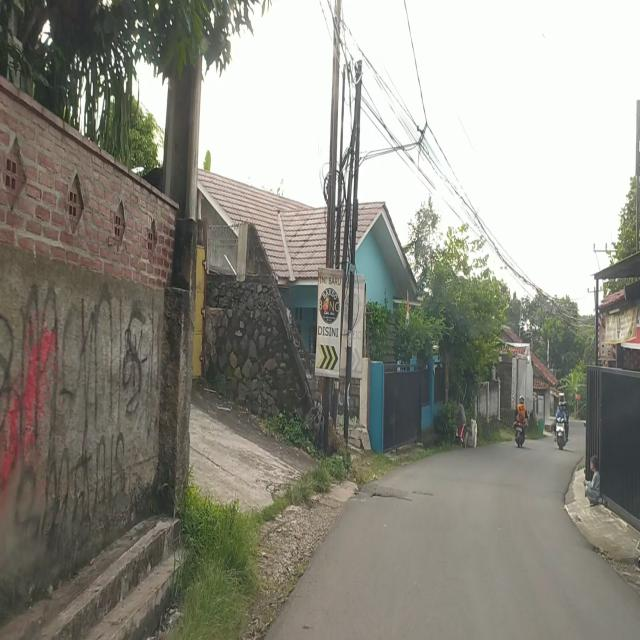Sewer Cover: (368, 491, 412, 503), (408, 486, 435, 496)
